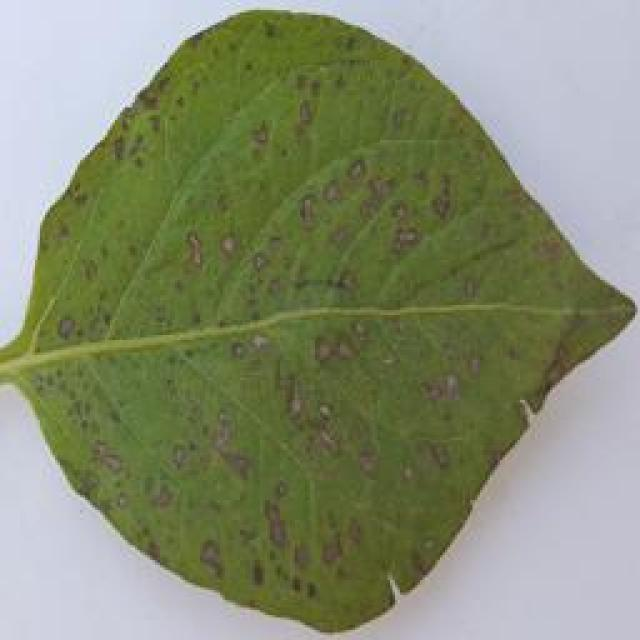Potato_Early_Blight: (5, 7, 625, 628)
